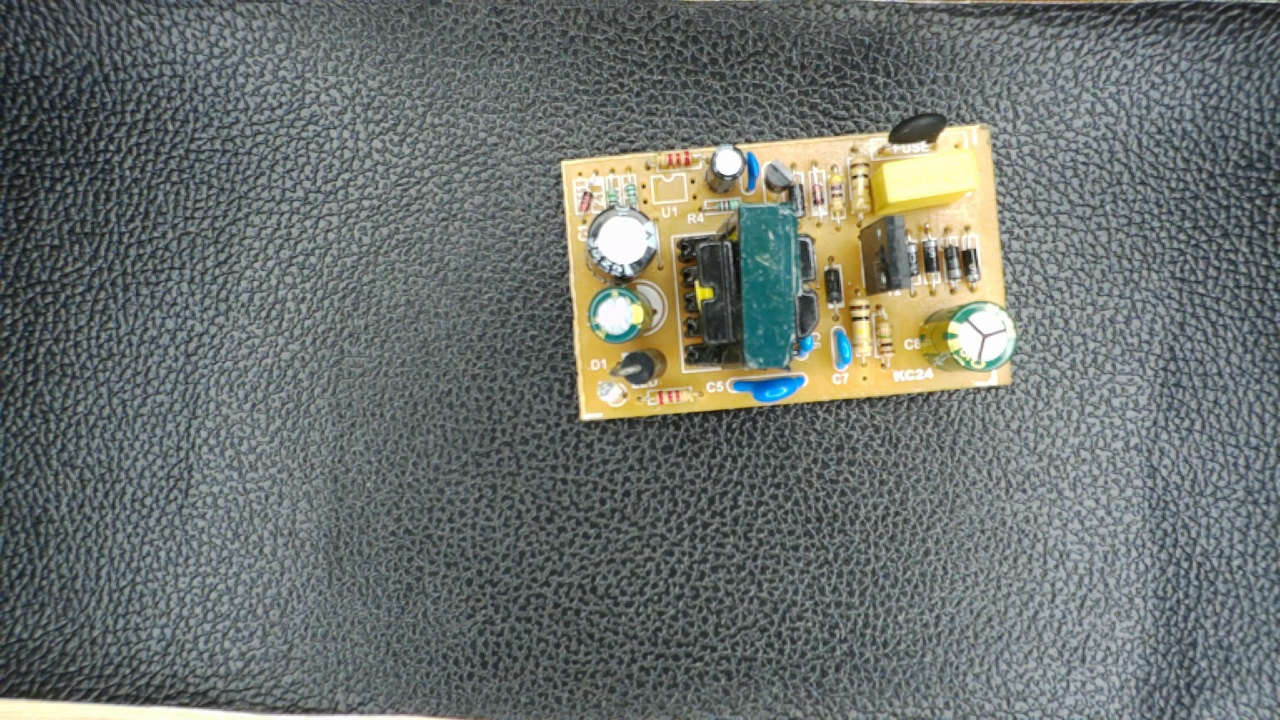fuse: (873, 114, 957, 158)
hv_capacitor: (918, 296, 1017, 374)
mov: (720, 366, 812, 405)
